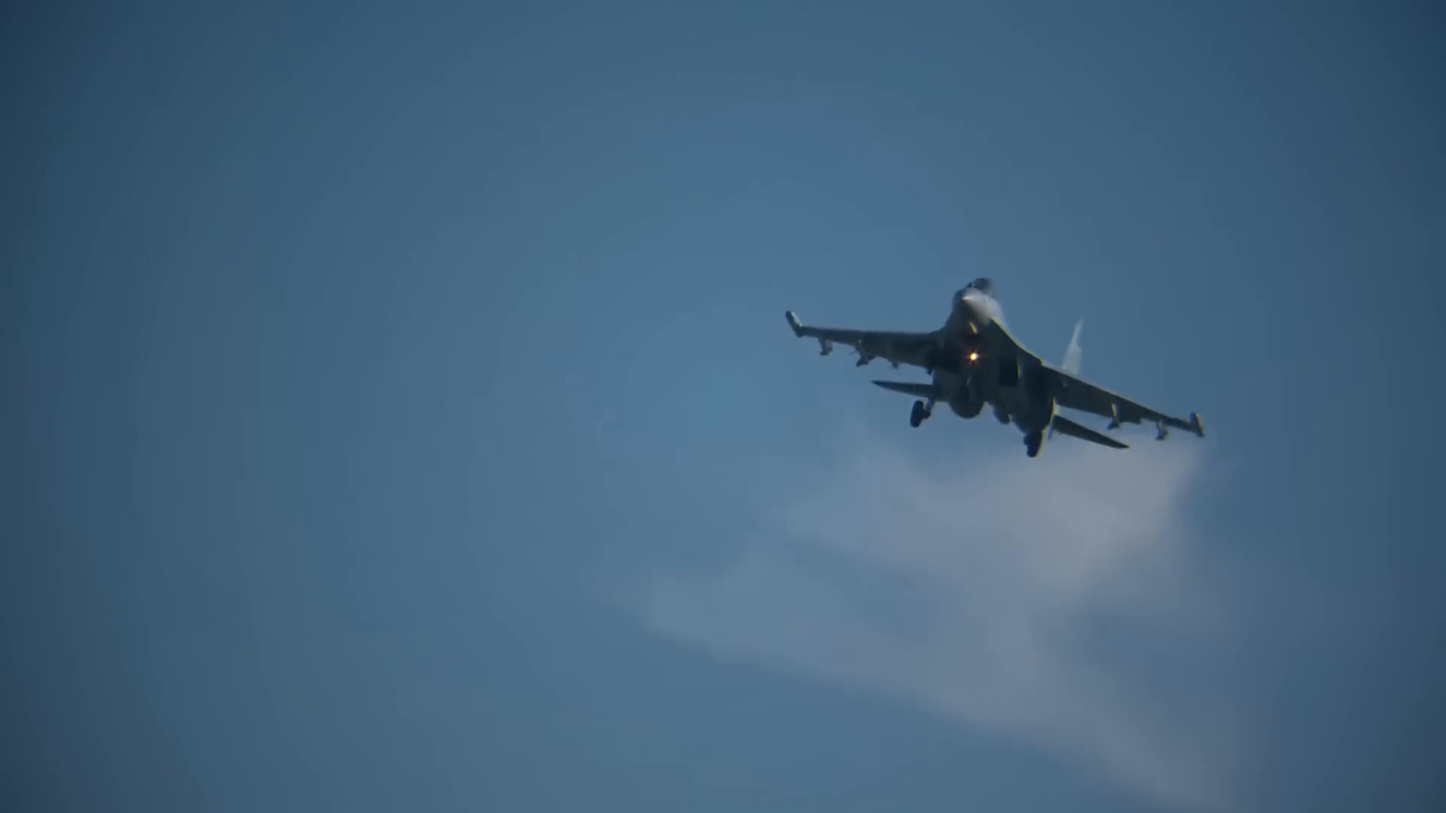Su35: (788, 275, 1206, 458)
